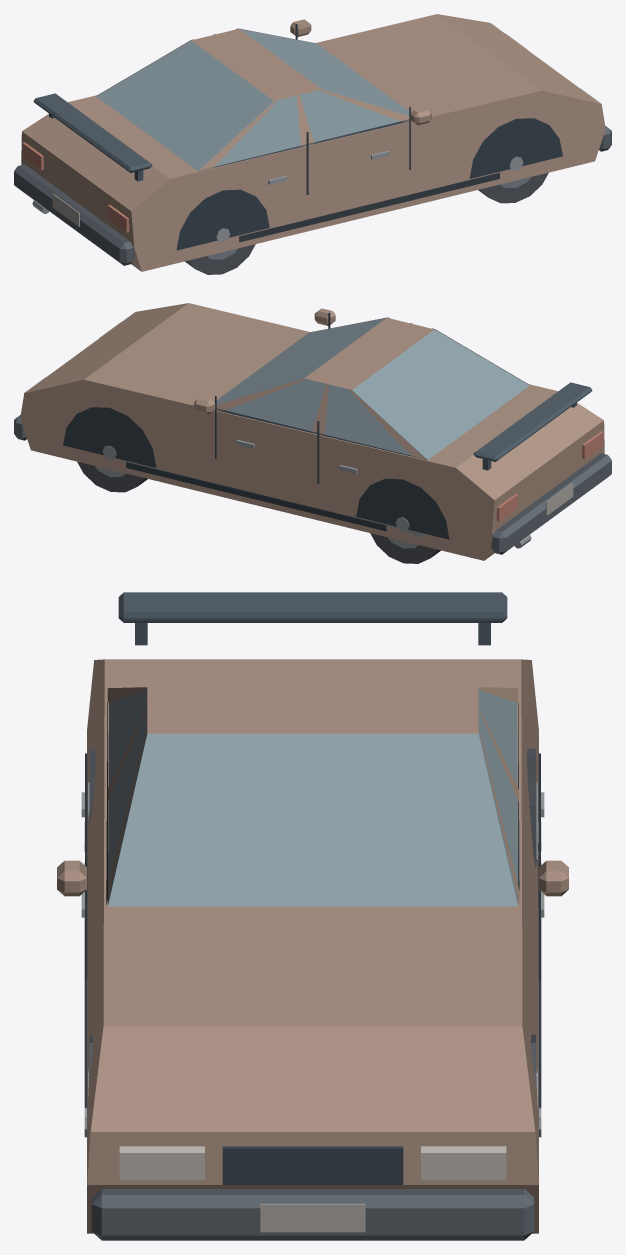
Rendered from vehiculo_coupe.glb.
3 renders of one model, top to bottom at view 1: azimuth 30°, elevation 25°; view 2: azimuth 150°, elevation 25°; view 3: azimuth 270°, elevation 25°, orthographic. The views are drawn at different scales.
Size of the model in its own units: 4.55 by 1.29 by 2.04.
